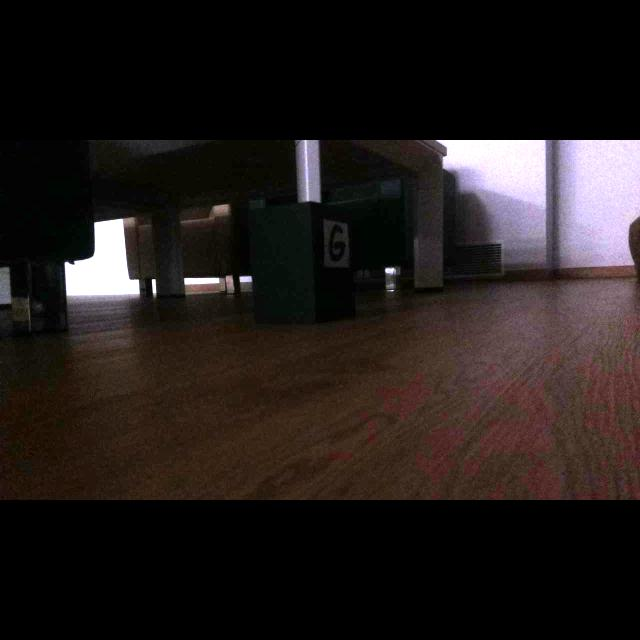G: (329, 226, 346, 261)
